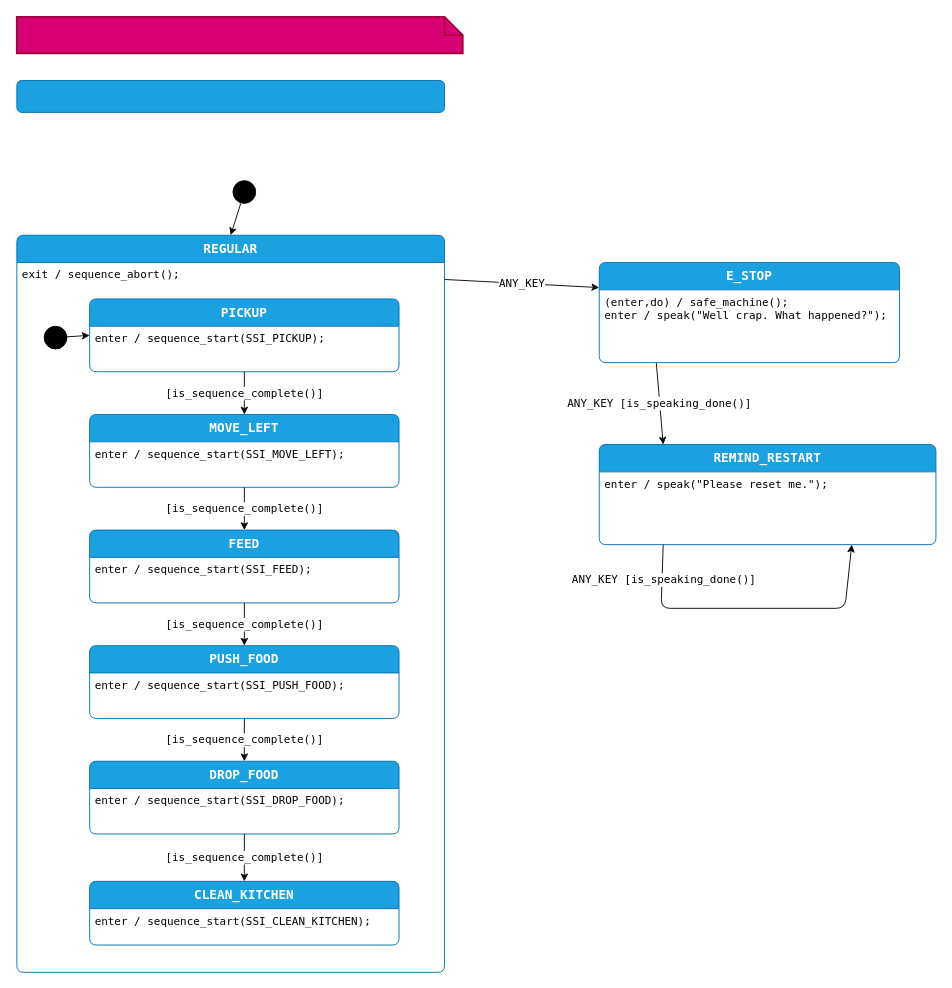
Image size: 952x988. Some labels were removed from this diagram. Here are the shapes that lost their labels. From the top down, the centre of each, then its label:
At (239,34): "This example requires StateSmith lib version 0.12.0+".
At (230,96): "$STATEMACHINE : BotSm".
